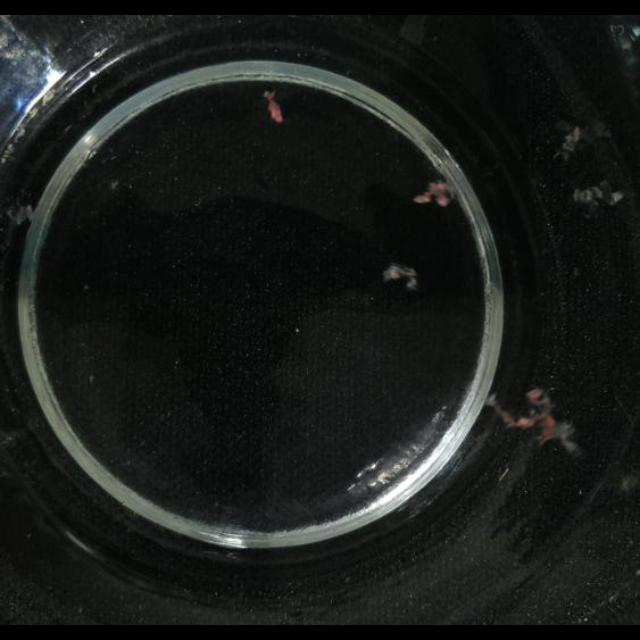Fibre: (383, 263, 419, 291)
Fragment: (490, 386, 580, 452), (576, 180, 624, 210), (413, 181, 455, 209), (554, 124, 584, 158), (6, 202, 36, 228), (261, 90, 283, 124)
microbeads: (88, 374, 95, 384), (294, 328, 300, 334)
